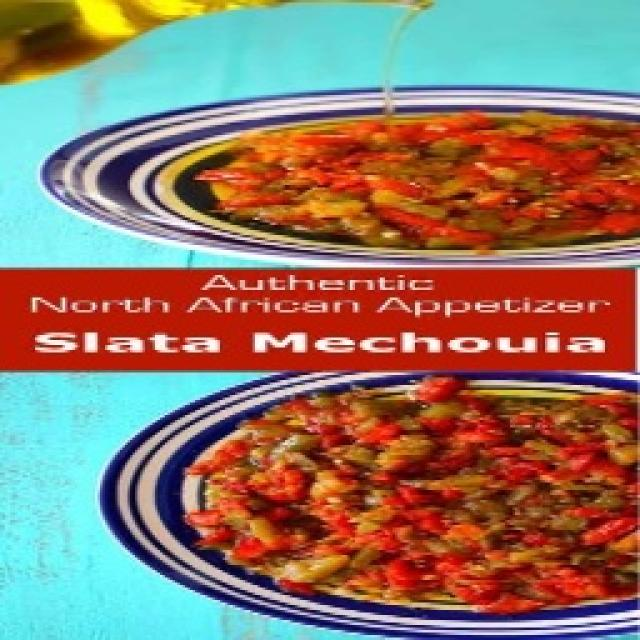Salade mechweya: (189, 378, 638, 611), (199, 112, 640, 252)
